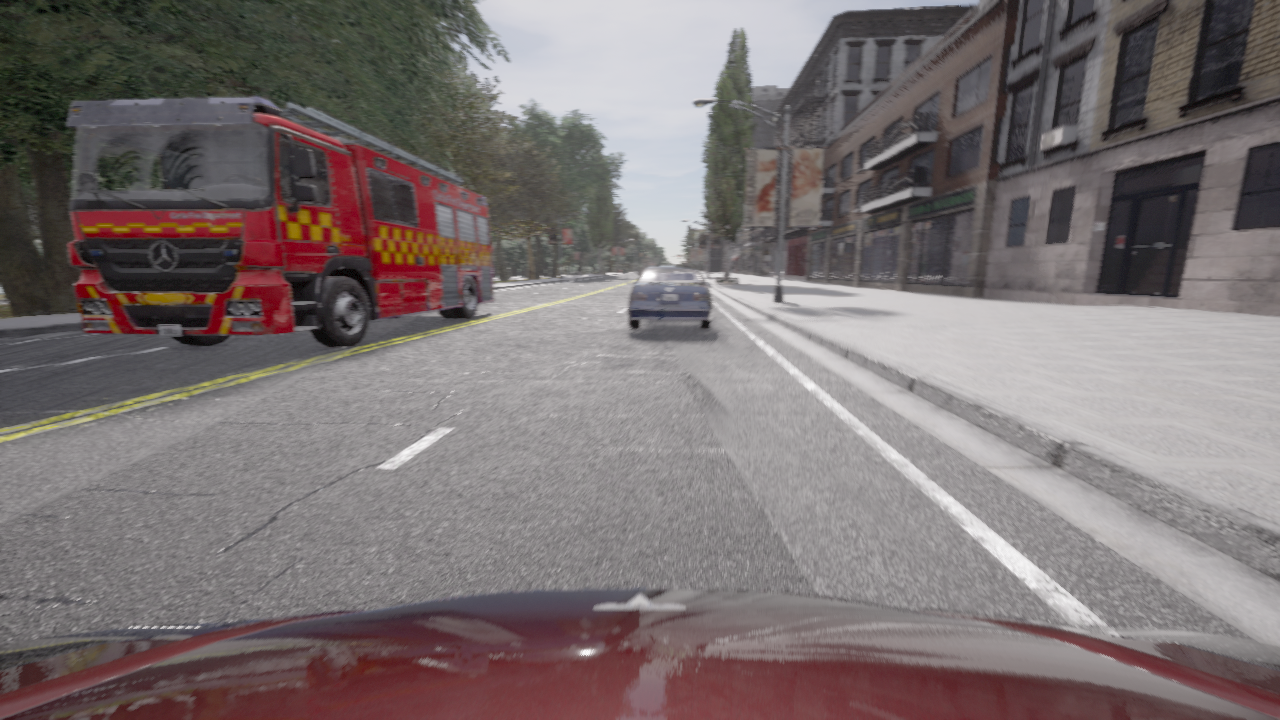cyclist: (0, 588, 1279, 719), (66, 96, 493, 346), (628, 265, 712, 328)
